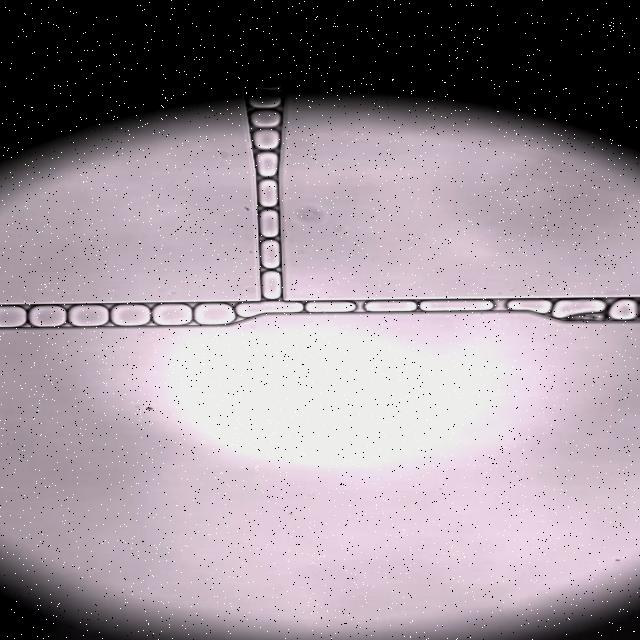L: (551, 300, 605, 319), (420, 300, 492, 311), (261, 271, 282, 299), (258, 179, 278, 208), (248, 92, 282, 109), (255, 152, 278, 177), (250, 110, 280, 129), (261, 240, 280, 269), (260, 210, 279, 238), (253, 130, 279, 150), (306, 302, 355, 312)
S: (237, 302, 302, 316), (194, 304, 235, 324), (153, 304, 192, 325), (69, 306, 108, 326), (29, 307, 66, 327), (113, 305, 149, 324), (508, 300, 551, 314), (365, 301, 416, 312), (0, 308, 26, 327), (615, 300, 636, 320)
